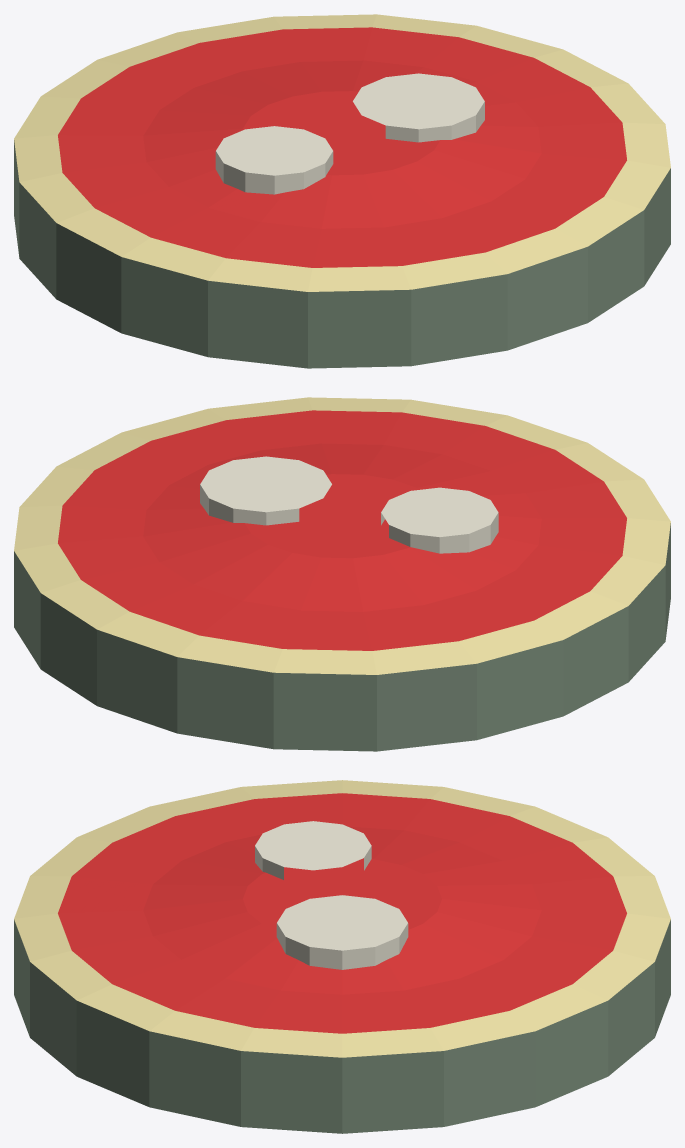
File: cap_elbow.glb
3 views of the same model, one above another, from view 1: azimuth 30°, elevation 25°; view 2: azimuth 150°, elevation 25°; view 3: azimuth 270°, elevation 25° (orthographic).
Visible parts, largest first — view 1: OUT; view 2: OUT; view 3: OUT.
Part boxes in pixels (box(x1,y1,x2,y2)): OUT: box(14, 14, 670, 368); OUT: box(14, 397, 670, 751); OUT: box(14, 780, 670, 1133).
Bounding box in the file's own units: 0.09 × 0.0165 × 0.09.
